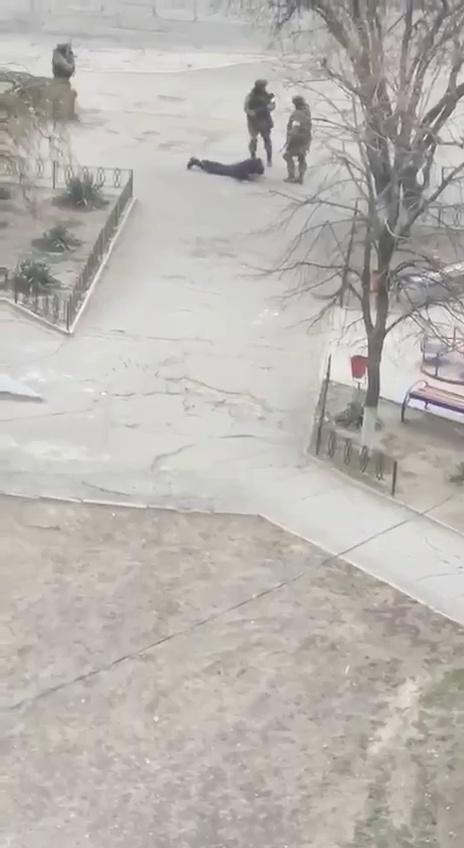person: (278, 94, 313, 184), (187, 147, 265, 185), (244, 78, 276, 168), (52, 41, 80, 122)
